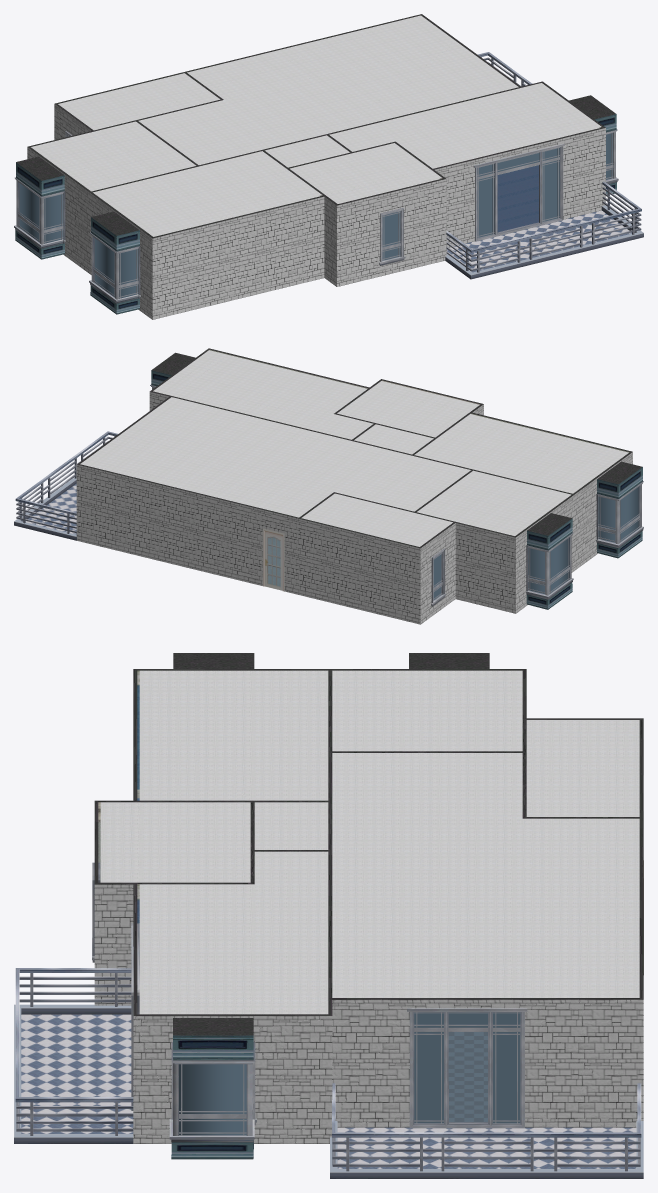
Rendered from house_0110600.FBX.
The picture shows the model from 3 angles, top to bottom: view 1: azimuth 30°, elevation 25°; view 2: azimuth 150°, elevation 25°; view 3: azimuth 270°, elevation 25°; orthographic projection. The views are drawn at different scales.
Parts seen in each view (by area): view 1: house_0110600_roof_100_00, house_0110600_outwall_100_04, house_0110600_floor_100_00, house_0110600_outwall_100_06, house_0110600_outwall_100_08, house_0110600_outwall_108_00, house_0110600_floor_104_00, house_0110600_floor_103_00, house_0110600_floor_108_00, house_0110600_outwall_100_03, house_0110600_inneredge_100_00, house_0110600_floor_106_00 (+5 smaller); view 2: house_0110600_roof_100_00, house_0110600_outwall_100_00, house_0110600_outwall_100_02, house_0110600_floor_103_00, house_0110600_floor_104_00, house_0110600_floor_100_01, house_0110600_outwall_100_03, house_0110600_outwall_100_01, house_0110600_tcx_100_00, house_0110600_inneredge_100_00, house_0110600_outwall_101_00, house_0110600_floor_102_00 (+2 smaller); view 3: house_0110600_roof_100_00, house_0110600_outwall_100_11, house_0110600_floor_100_00, house_0110600_floor_100_01, house_0110600_outwall_100_09, house_0110600_floor_108_00, house_0110600_outwall_101_01, house_0110600_inneredge_100_00, house_0110600_outwall_100_07, house_0110600_floor_101_00, house_0110600_tcx_100_11, house_0110600_outedge_100_00 (+5 smaller).
Boxes of the visible parts, x1,y1,x2,y2 form: house_0110600_roof_100_00: (31,15,601,236); house_0110600_outwall_100_04: (152,196,324,313); house_0110600_floor_100_00: (445,181,643,279); house_0110600_outwall_100_06: (337,179,446,281); house_0110600_outwall_100_08: (434,128,605,241); house_0110600_outwall_108_00: (473,143,564,241); house_0110600_floor_104_00: (89,211,140,314); house_0110600_floor_103_00: (14,156,65,259); house_0110600_floor_108_00: (497,95,618,232); house_0110600_outwall_100_03: (27,147,152,313); house_0110600_inneredge_100_00: (91,72,519,195); house_0110600_floor_106_00: (379,208,405,265); house_0110600_roof_100_00: (80,350,628,546); house_0110600_outwall_100_00: (76,464,420,619); house_0110600_outwall_100_02: (455,523,515,608); house_0110600_floor_103_00: (526,513,573,609); house_0110600_floor_104_00: (596,461,643,558); house_0110600_floor_100_01: (14,431,117,540); house_0110600_outwall_100_03: (516,452,632,607); house_0110600_outwall_100_01: (420,523,455,618); house_0110600_tcx_100_00: (76,535,420,624); house_0110600_inneredge_100_00: (172,388,572,522); house_0110600_outwall_101_00: (262,528,284,591); house_0110600_floor_102_00: (431,548,446,606); house_0110600_roof_100_00: (100,670,639,1014); house_0110600_outwall_100_11: (332,999,643,1118); house_0110600_floor_100_00: (14,968,133,1143); house_0110600_floor_100_01: (330,1083,643,1178); house_0110600_outwall_100_09: (133,1016,332,1134); house_0110600_floor_108_00: (169,1018,256,1159); house_0110600_outwall_101_01: (407,1008,527,1128); house_0110600_inneredge_100_00: (137,670,639,997); house_0110600_outwall_100_07: (94,884,133,1003); house_0110600_floor_101_00: (448,1032,487,1122); house_0110600_tcx_100_11: (335,1118,643,1127); house_0110600_outedge_100_00: (639,718,643,999).
Bounding box in the file's own units: 1947 × 290 × 1295.
Materials: 66 (66 with a texture image).
